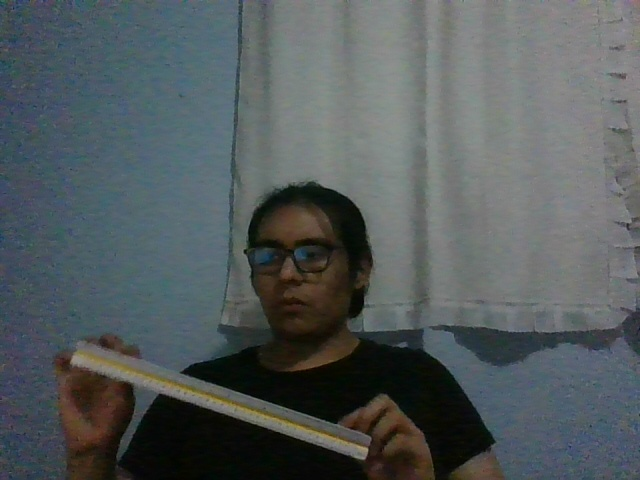regla: (70, 340, 372, 460)
